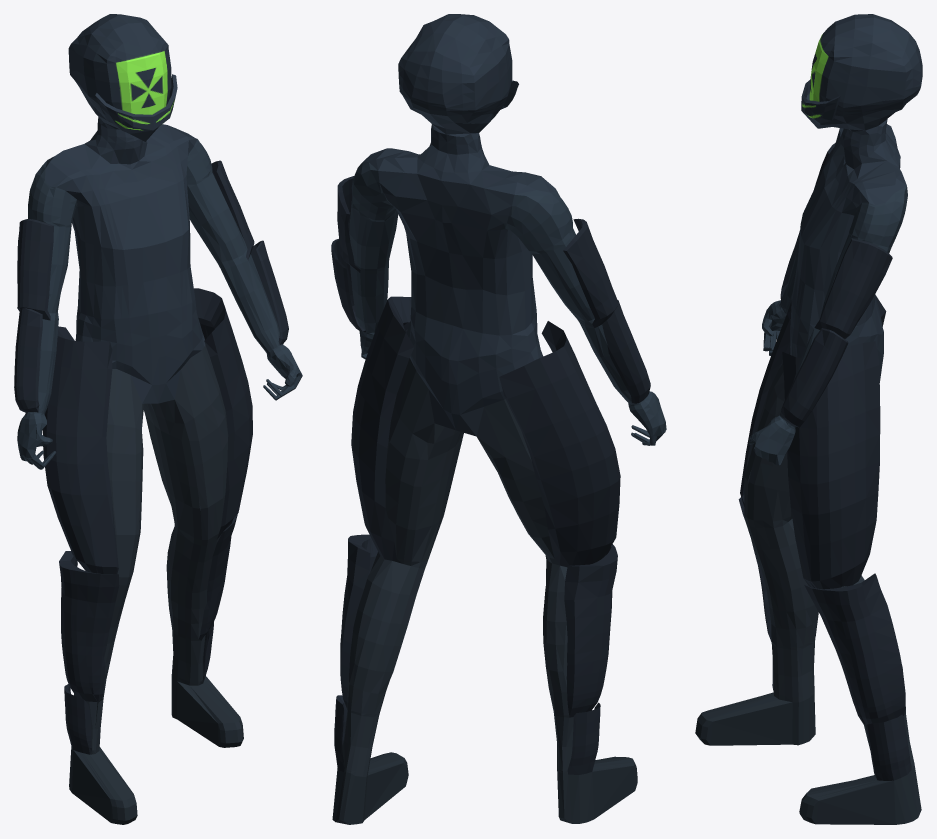
Rendered from Bastion_Stun_Recover_000007.obj.
3 renders of one model, left to right at view 1: azimuth 30°, elevation 25°; view 2: azimuth 150°, elevation 25°; view 3: azimuth 270°, elevation 25°, orthographic. The views are drawn at different scales.
Parts seen in each view (by area): view 1: Cube.002; view 2: Cube.002; view 3: Cube.002.
Part boxes in pixels (left/top/right/bottom): Cube.002: left=14, top=14, right=302, bottom=824; Cube.002: left=331, top=14, right=666, bottom=824; Cube.002: left=695, top=14, right=922, bottom=824.
Bounding box in the file's own units: 1.53 × 3.86 × 1.05.
